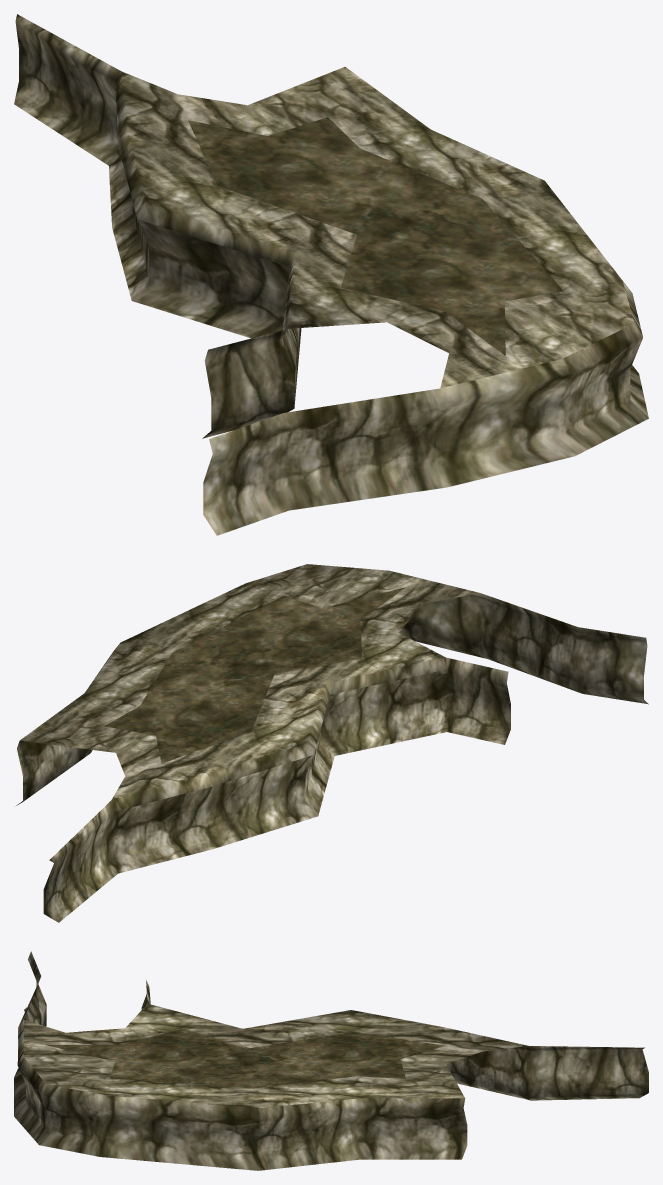
File: CB_NEWPLAYSURFACE_CB_PLAYSURFACE126.fbx
3 views of the same model, one above another, from view 1: azimuth 30°, elevation 25°; view 2: azimuth 150°, elevation 25°; view 3: azimuth 270°, elevation 25° (orthographic). The views are drawn at different scales.
Parts seen in each view (by area): view 1: CB_NEWPLAYSURFACE_CB_PLAYSURFACE126; view 2: CB_NEWPLAYSURFACE_CB_PLAYSURFACE126; view 3: CB_NEWPLAYSURFACE_CB_PLAYSURFACE126.
Boxes of the visible parts, bbox=[...] form: CB_NEWPLAYSURFACE_CB_PLAYSURFACE126: bbox=[14, 14, 648, 535]; CB_NEWPLAYSURFACE_CB_PLAYSURFACE126: bbox=[16, 564, 648, 922]; CB_NEWPLAYSURFACE_CB_PLAYSURFACE126: bbox=[14, 951, 648, 1170].
Bounding box in the file's own units: 176916 × 29558 × 292778.
3 materials, 3 textured.
